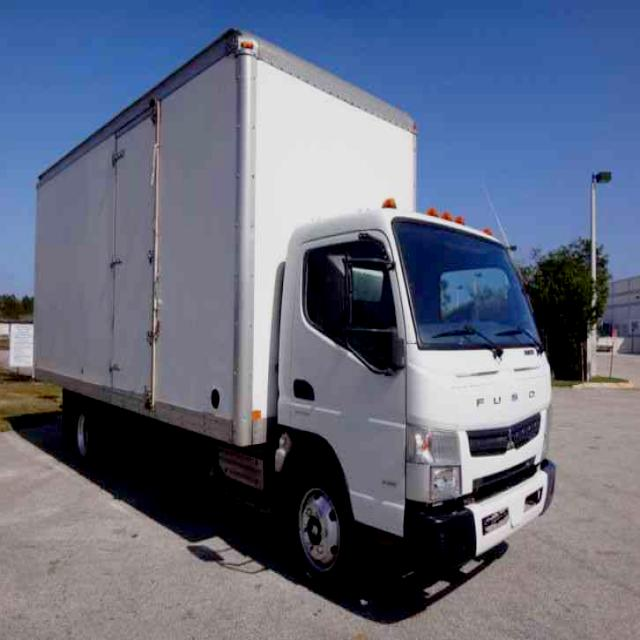truck: (34, 28, 557, 587)
